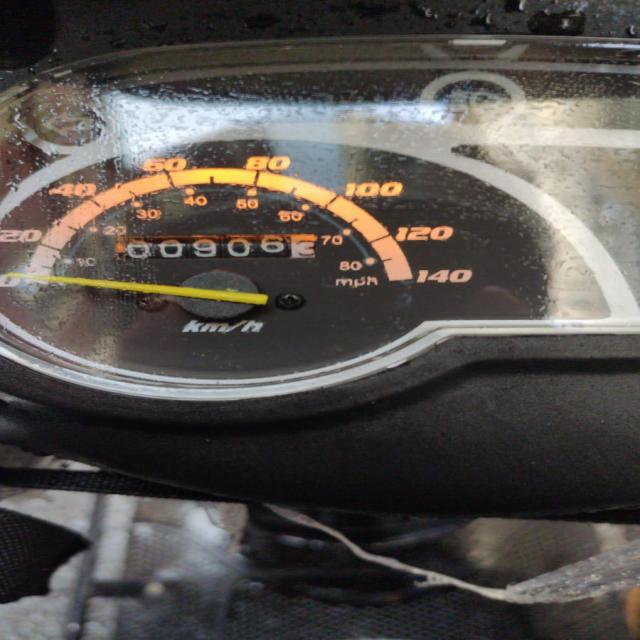odometer: (114, 233, 318, 260)
